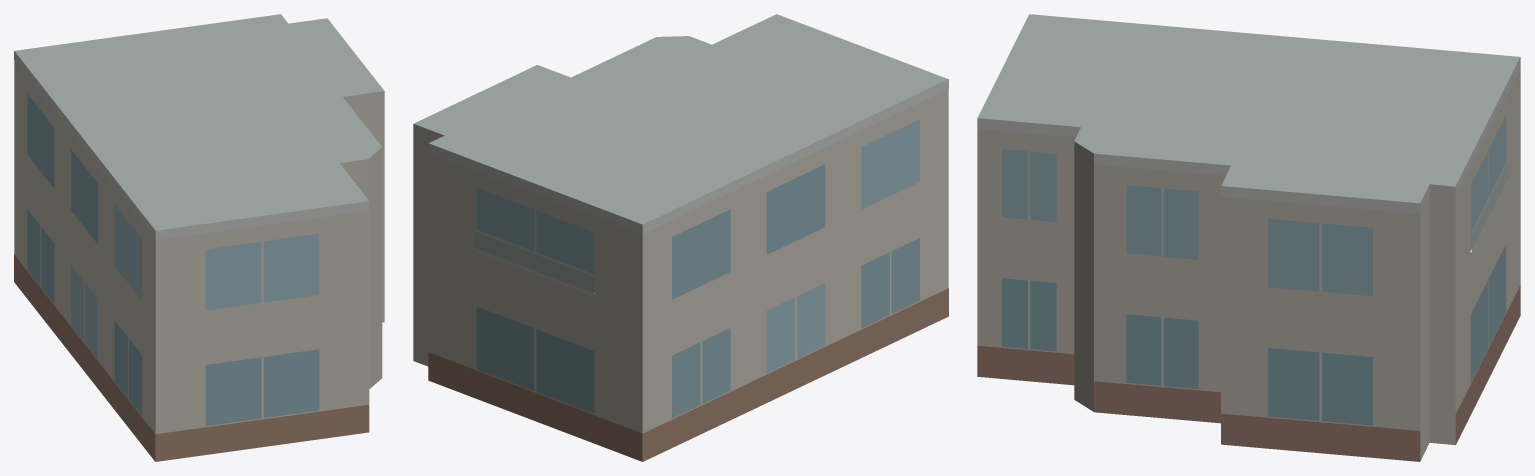
Rendered from survey-upis-33024269.glb.
3 views of the same model, side by side, from view 1: azimuth 30°, elevation 25°; view 2: azimuth 150°, elevation 25°; view 3: azimuth 270°, elevation 25° (orthographic). The views are drawn at different scales.
Visible parts, largest first — view 1: survey-upis-33024269.tmp; view 2: survey-upis-33024269.tmp; view 3: survey-upis-33024269.tmp.
Boxes of the visible parts, <box> form: survey-upis-33024269.tmp: <box>14,14,384,461</box>; survey-upis-33024269.tmp: <box>413,14,948,461</box>; survey-upis-33024269.tmp: <box>977,14,1520,461</box>.
Size of the model in its own units: 8.72 by 5.55 by 10.58.
